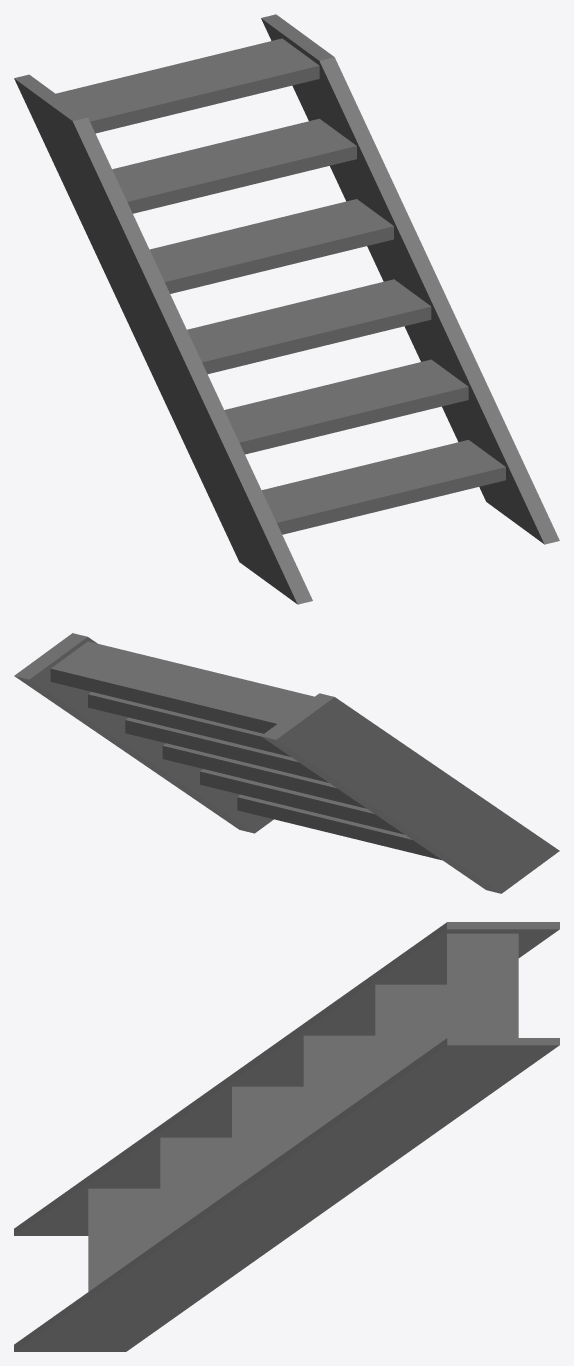
The model's file is Stairs_049.glb.
3 renders of one model, top to bottom at view 1: azimuth 30°, elevation 25°; view 2: azimuth 150°, elevation 25°; view 3: azimuth 270°, elevation 25°, orthographic. The views are drawn at different scales.
Parts seen in each view (by area): view 1: Stairs_049; view 2: Stairs_049; view 3: Stairs_049.
Boxes of the visible parts, x1=… form: Stairs_049: x1=14, y1=14, x2=559, y2=604; Stairs_049: x1=14, y1=633, x2=559, y2=893; Stairs_049: x1=14, y1=922, x2=559, y2=1351.
Size of the model in its own units: 1.72 by 2 by 3.23.
Materials: 1 (1 with a texture image).
